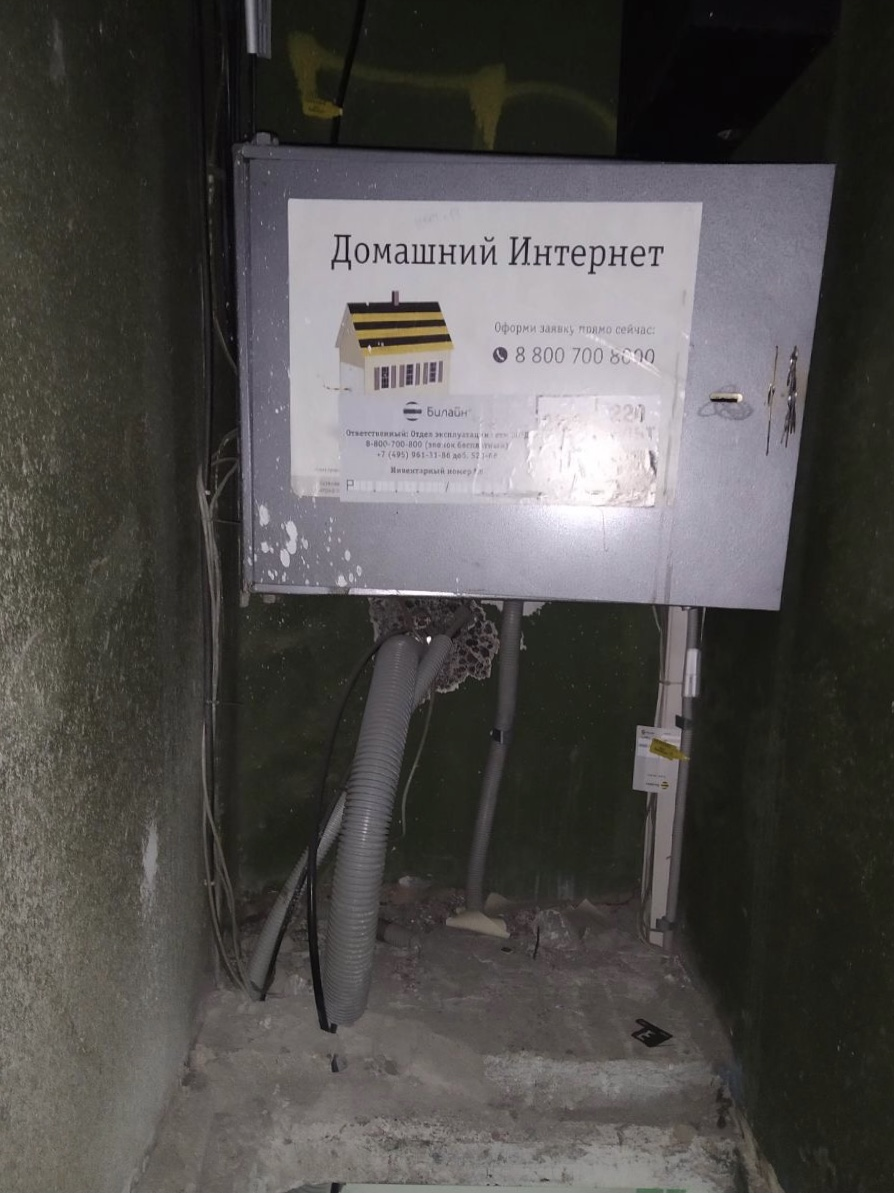shta-9m: (228, 138, 842, 618)
